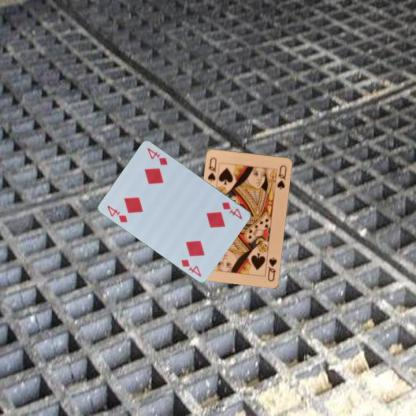4d: (219, 199, 244, 221), (104, 203, 129, 224)
Qs: (205, 154, 218, 183), (265, 255, 278, 283)
